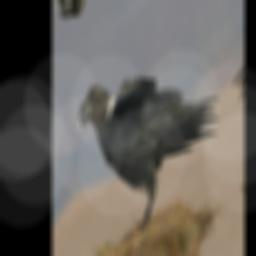Crow: (71, 0, 231, 256)
